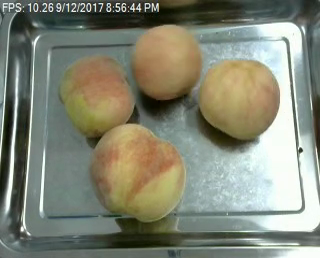Peach: (89, 123, 184, 222), (197, 59, 280, 140), (60, 53, 136, 138), (132, 23, 202, 101)
